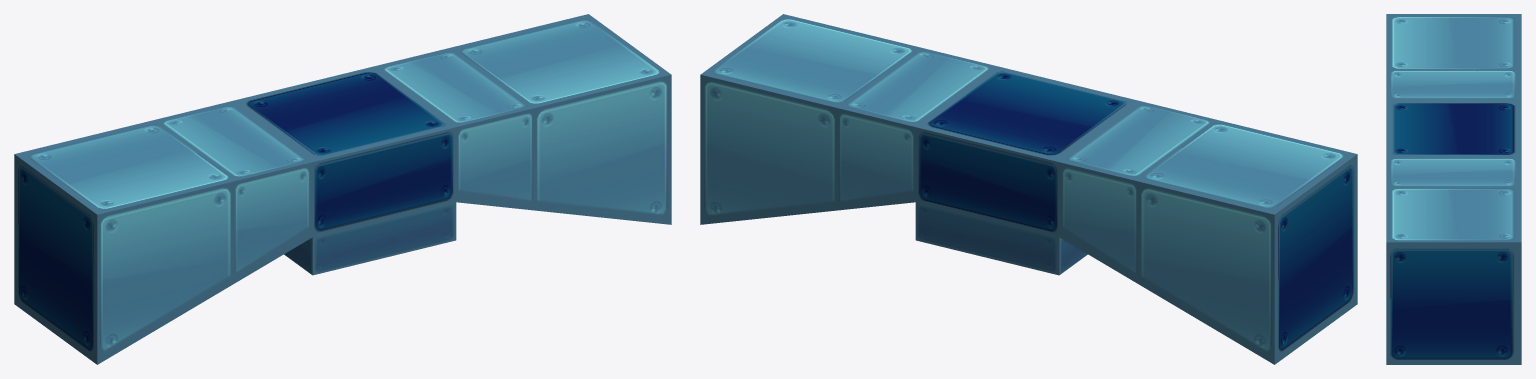
File: floatyPlatform2.FBX
3 renders of one model, left to right at view 1: azimuth 30°, elevation 25°; view 2: azimuth 150°, elevation 25°; view 3: azimuth 270°, elevation 25°, orthographic. The views are drawn at different scales.
Visible parts, largest first — view 1: floatyPlatform2; view 2: floatyPlatform2; view 3: floatyPlatform2.
Part boxes in pixels (bbox=[...]): floatyPlatform2: bbox=[14, 14, 671, 364]; floatyPlatform2: bbox=[700, 14, 1357, 364]; floatyPlatform2: bbox=[1386, 14, 1521, 364].
Size of the model in its own units: 157 by 39.37 by 39.37.
1 material, 1 textured.
